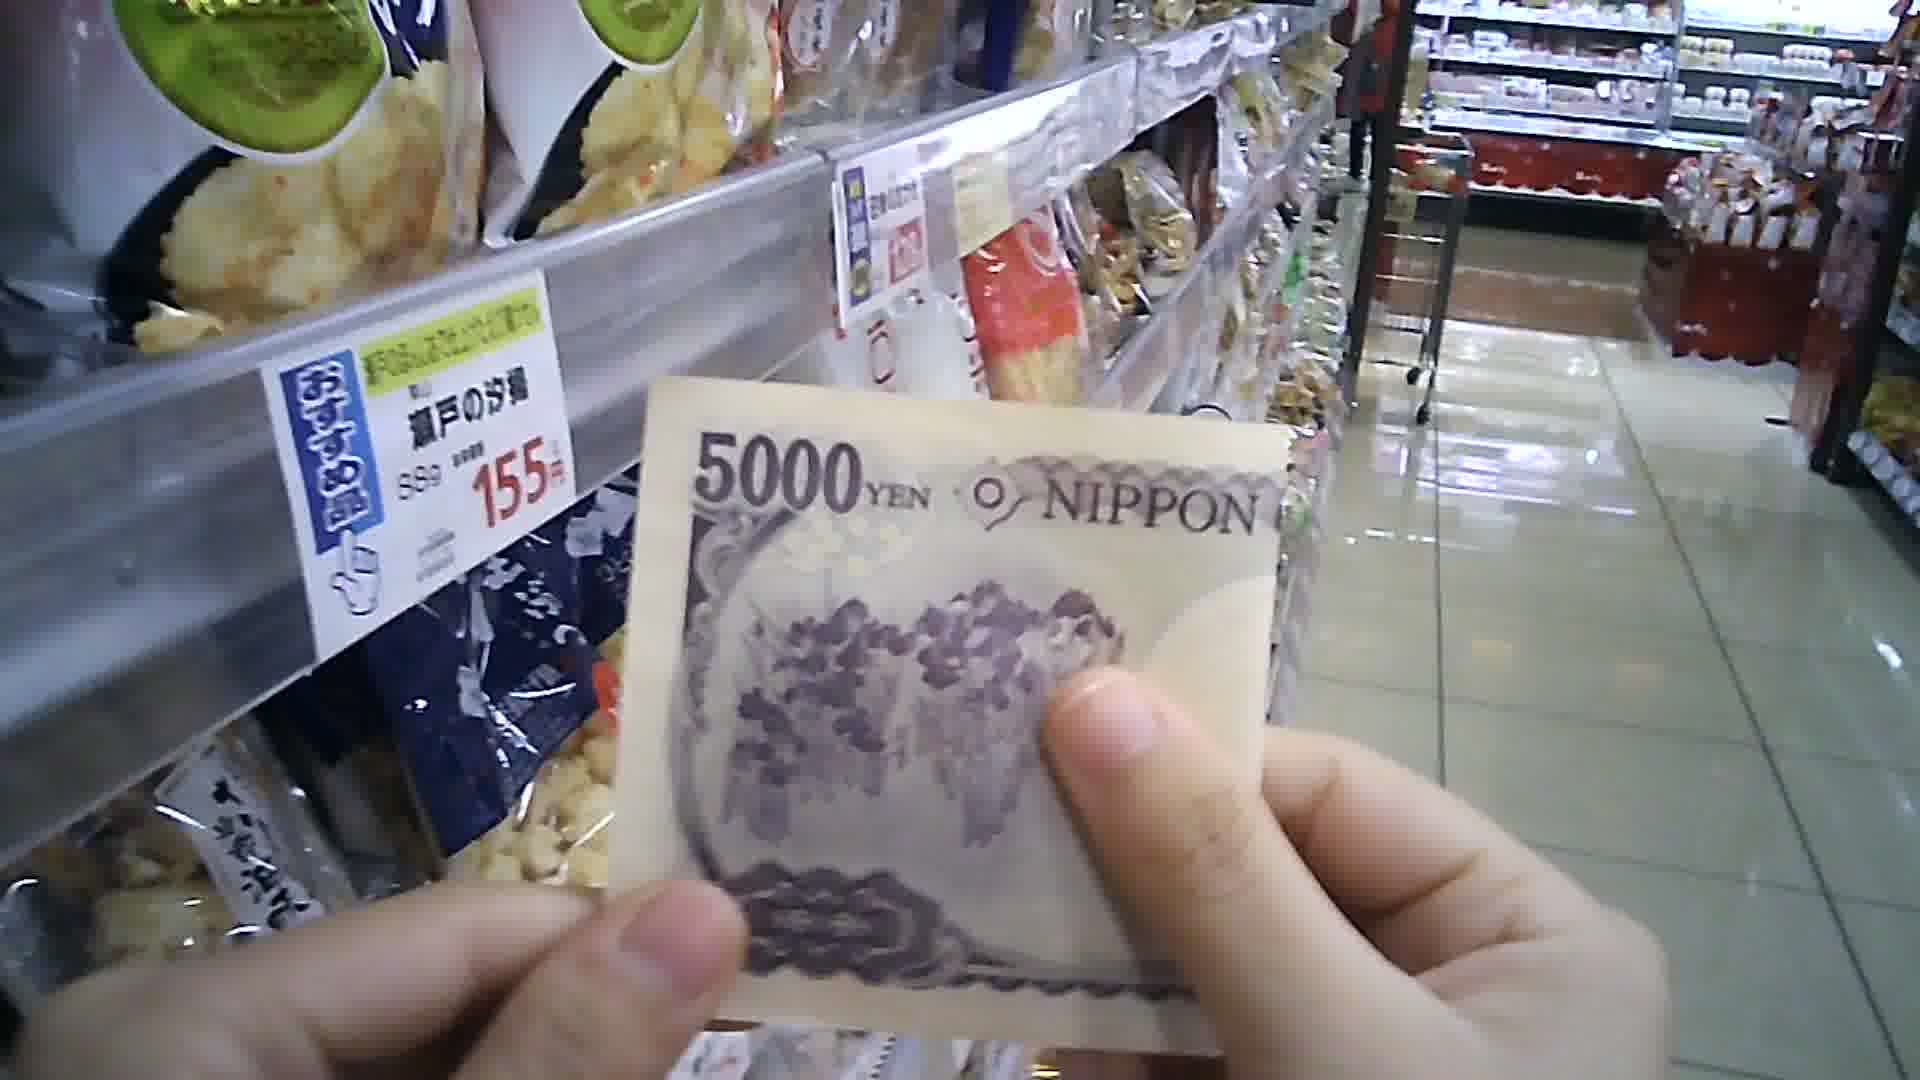5,000 Yen: (574, 357, 1327, 1079)
